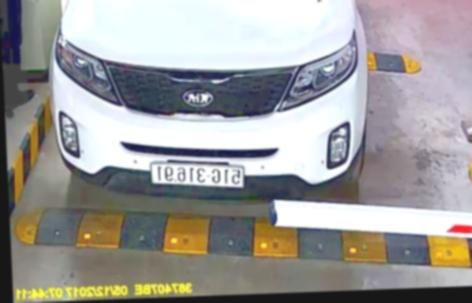License_Plate: (145, 162, 247, 190)
